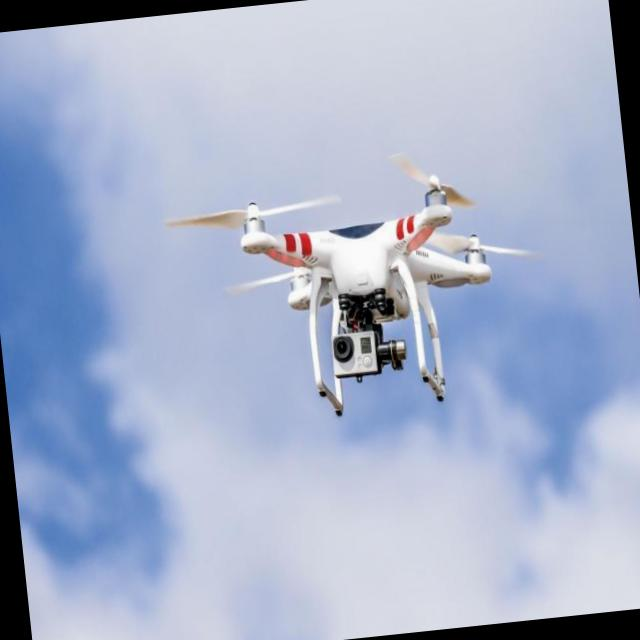drone: (161, 136, 554, 433)
